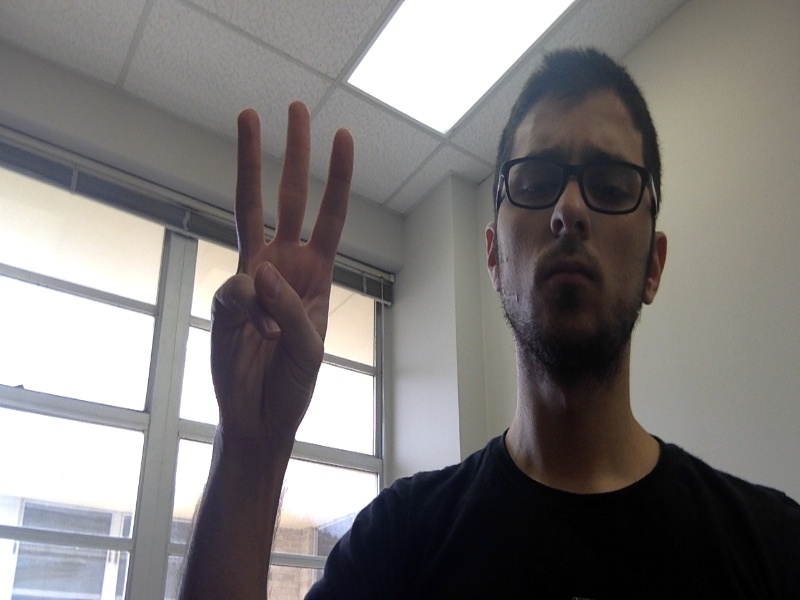3-hand: (212, 102, 355, 421)
